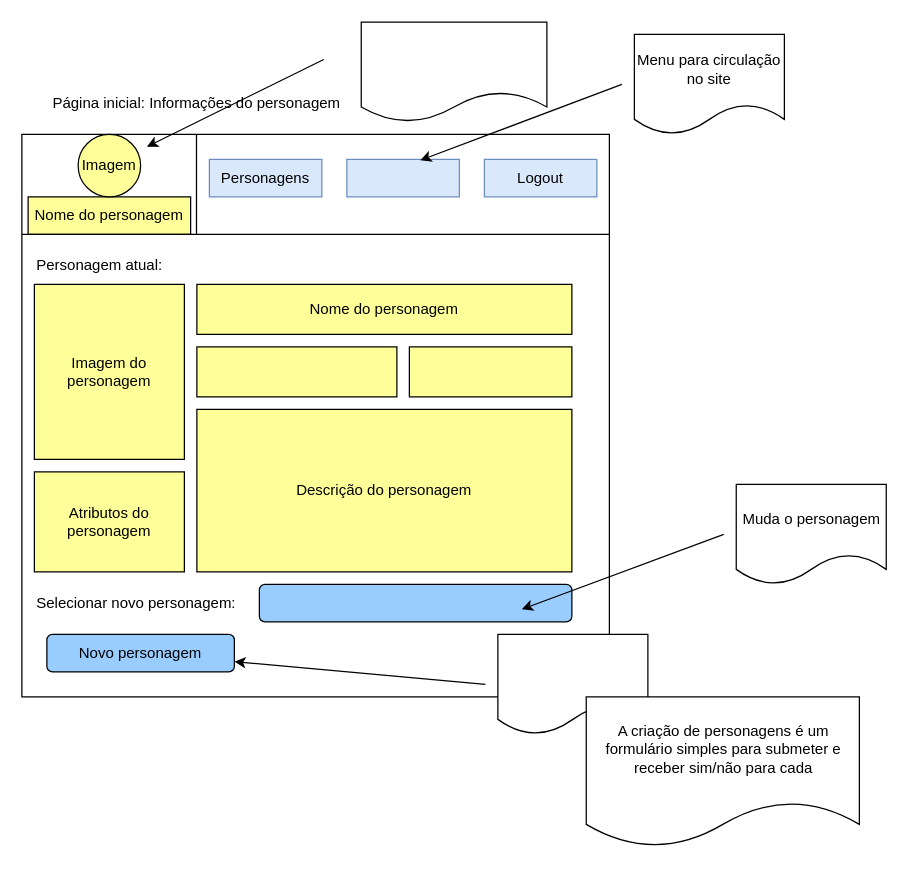
This 909x869 diagram has some shape labels left out. Here are the shapes that lost their labels. From the top down, the box of each, then its label:
(360, 21, 547, 122): Sempre aparece nome e imagem do personagem selecionado
(346, 158, 459, 197): Missões
(196, 346, 397, 397): Nível do personagem
(408, 346, 572, 397): Vidas do personagem
(258, 583, 572, 622): Seleção (tipo drop list) com o nome de todos os personagens do jogador
(497, 633, 648, 734): Vai para página de criação de personagens
